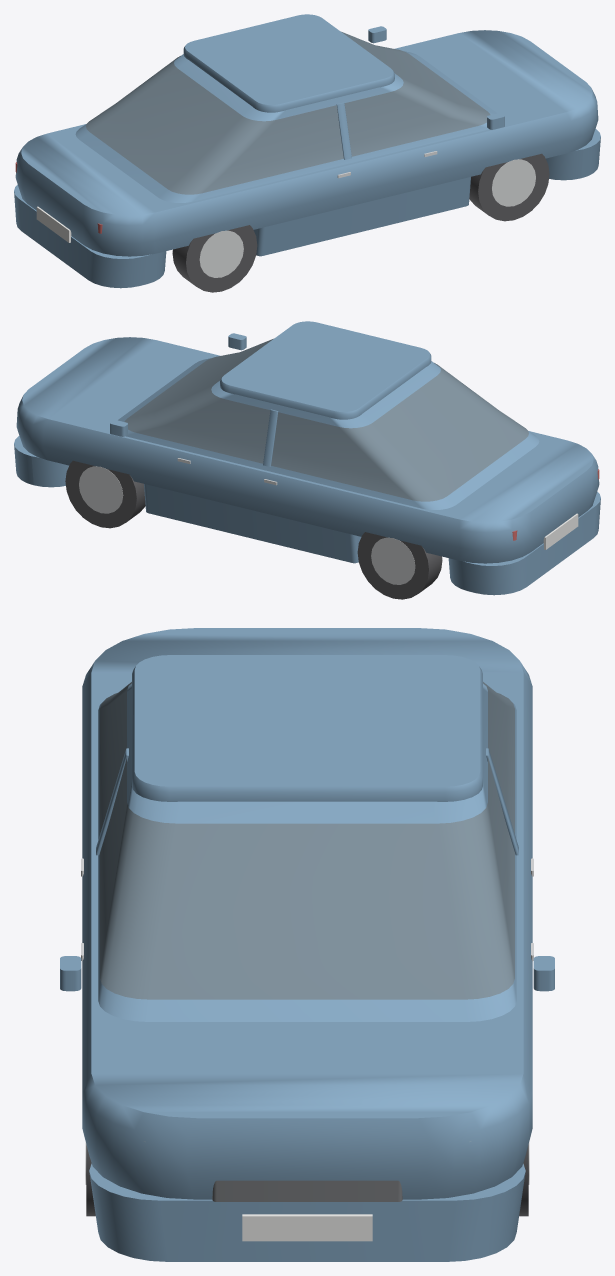
The picture shows the model from 3 angles, top to bottom: view 1: azimuth 30°, elevation 25°; view 2: azimuth 150°, elevation 25°; view 3: azimuth 270°, elevation 25°; orthographic projection. The views are drawn at different scales.
Visible parts, largest first — view 1: Ô tô con; view 2: Ô tô con; view 3: Ô tô con.
Part boxes in pixels (bbox=[...]): Ô tô con: bbox=[14, 14, 600, 292]; Ô tô con: bbox=[14, 321, 600, 599]; Ô tô con: bbox=[60, 628, 554, 1261].
Size of the model in its own units: 4.7 by 1.43 by 1.98.
